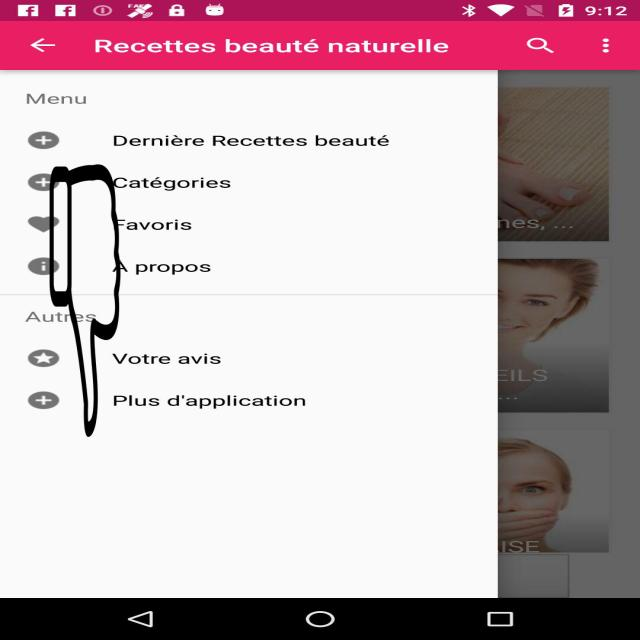obstruction: (48, 164, 122, 437)
